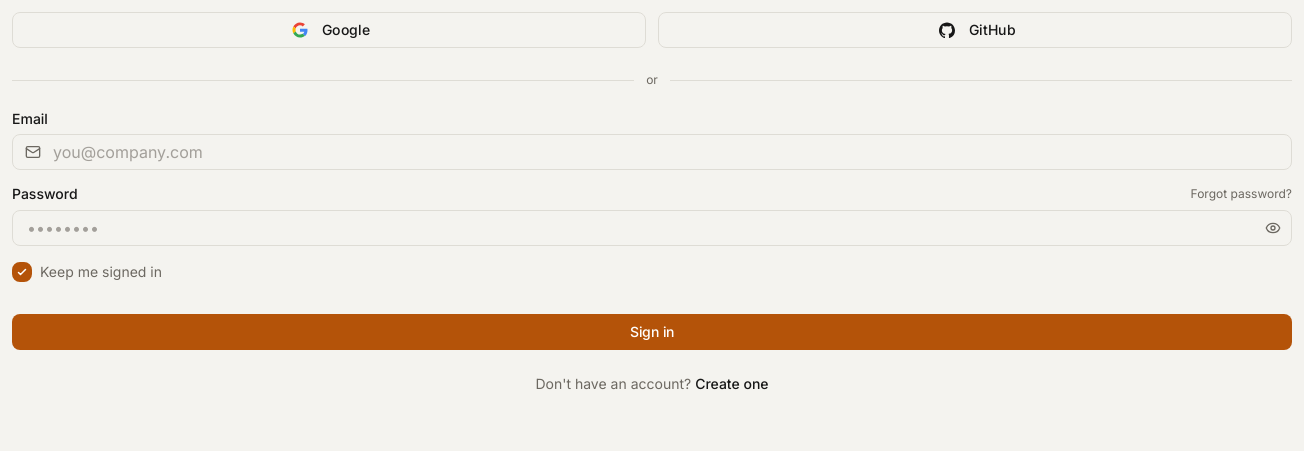
Test case: SignInForm — user behaviour (isolated) › shows validation errors for empty submit
The image size is (1304, 451).
Click the button named "sign in".
click(652, 332)  # box left=12, top=314, right=1292, bottom=350
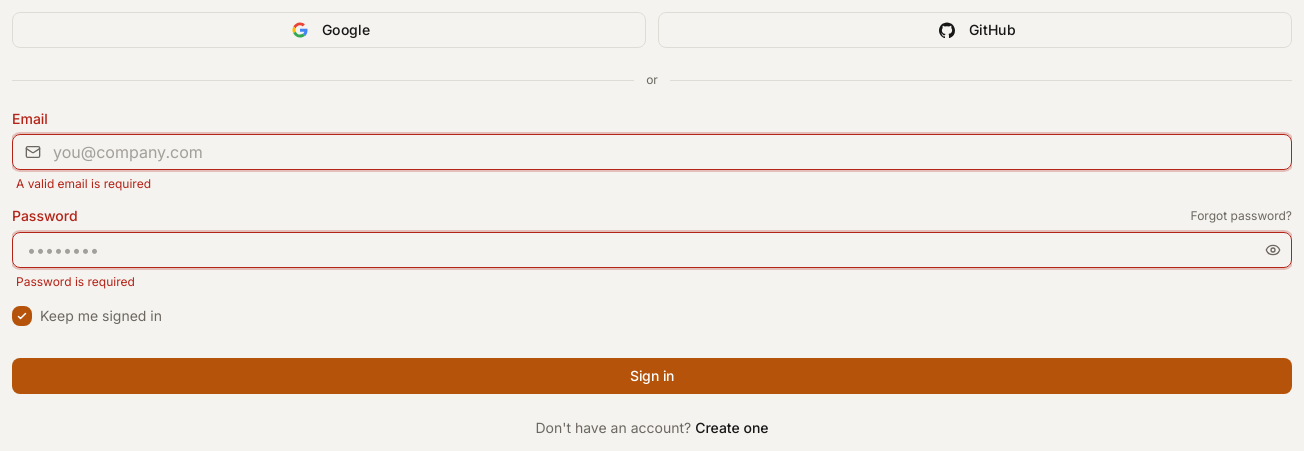
Check: the text "A valid email is required" is shown, box left=16, top=176, right=151, bottom=191
Check: the text "Password is required" is shown, box left=16, top=274, right=135, bottom=289
